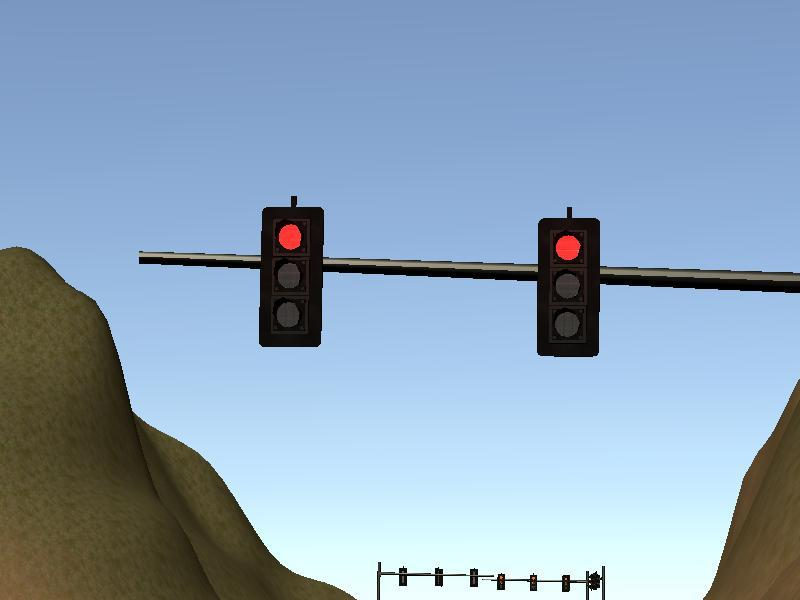Red: (260, 206, 321, 348), (538, 216, 599, 358), (561, 574, 571, 592), (496, 573, 504, 591), (529, 574, 536, 592)
